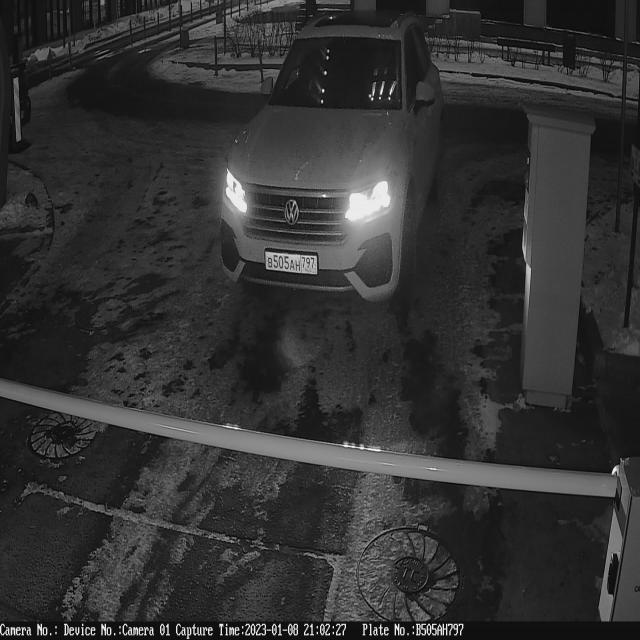car-plate-numbers: (265, 243, 322, 281)
